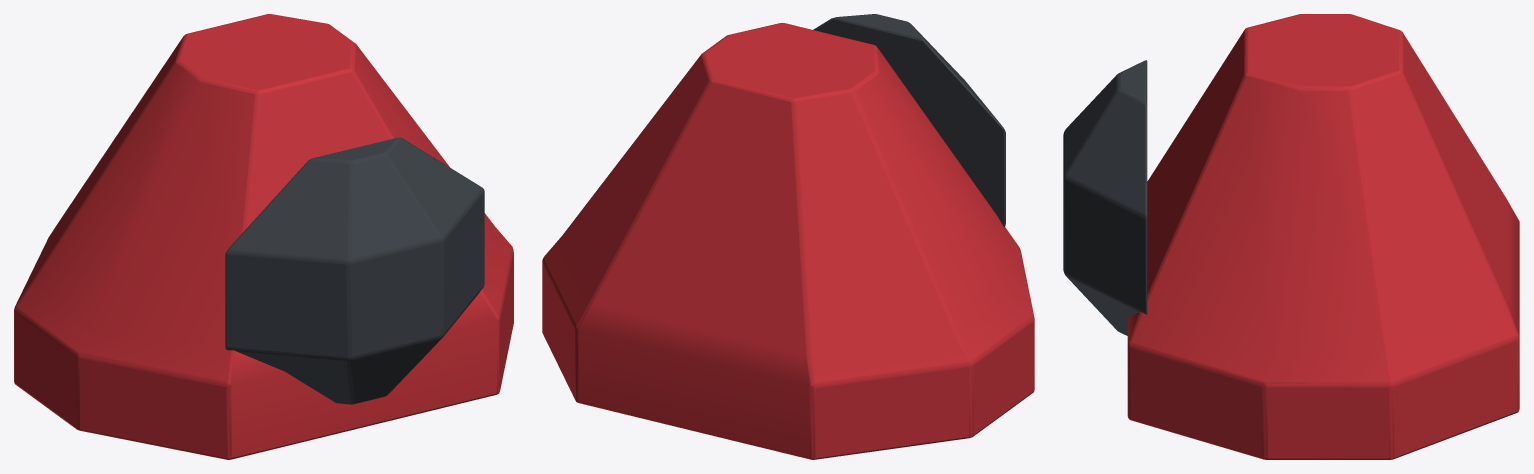
Rendered from AnimalHeadFront_Set09_Mantis.fbx.
3 views of the same model, side by side, from view 1: azimuth 30°, elevation 25°; view 2: azimuth 150°, elevation 25°; view 3: azimuth 270°, elevation 25° (orthographic).
Visible parts, largest first — view 1: AnimalHeadFront_Set09_Mantis; view 2: AnimalHeadFront_Set09_Mantis; view 3: AnimalHeadFront_Set09_Mantis.
Boxes of the visible parts, bbox=[...] form: AnimalHeadFront_Set09_Mantis: bbox=[14, 14, 513, 459]; AnimalHeadFront_Set09_Mantis: bbox=[542, 14, 1034, 459]; AnimalHeadFront_Set09_Mantis: bbox=[1063, 14, 1519, 459].
Bounding box in the file's own units: 0.36 × 0.24 × 0.326.
